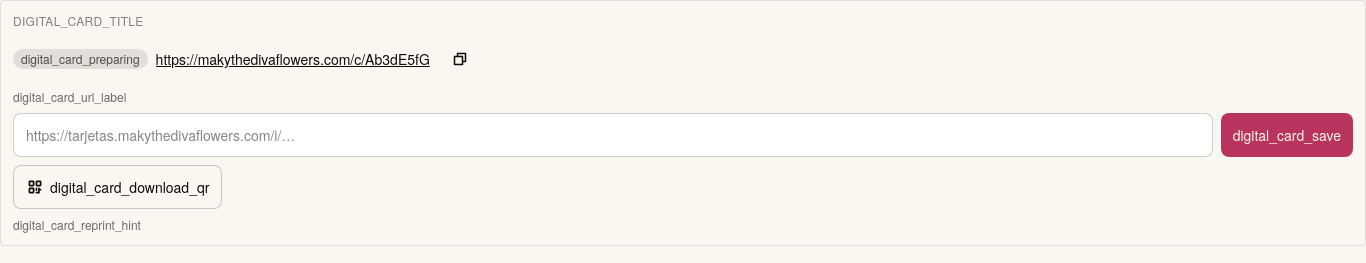
Scenario: DigitalCardSection › copies the short link
Click the button named "digital_card_copy" at (460, 59), box [438,37,482,81]
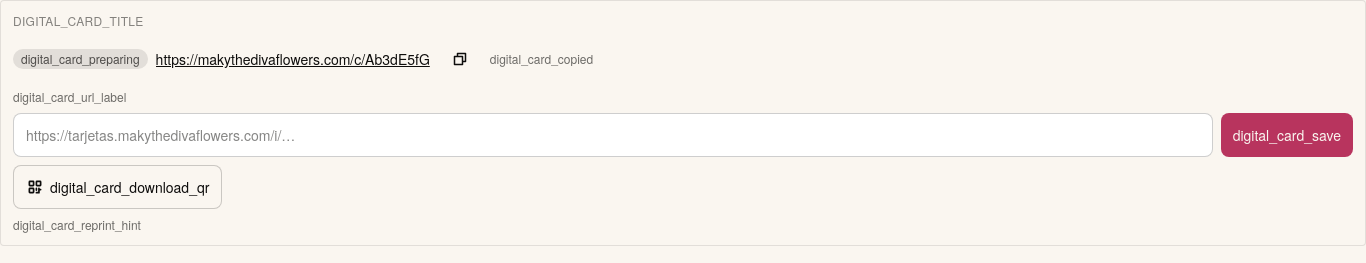
Expected: the text "digital_card_copied" is shown, [490,51,593,67]
